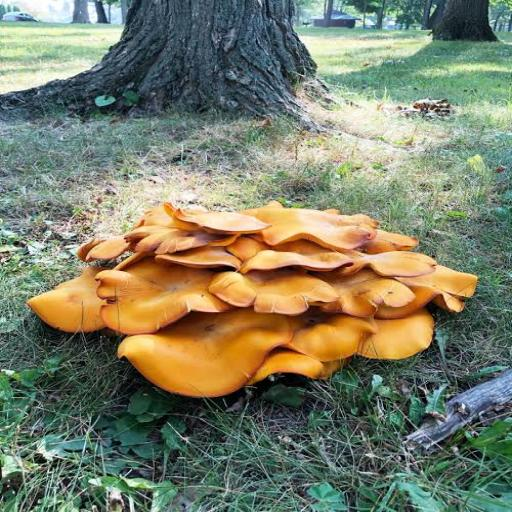Jack O Lantern Mushroom: (107, 299, 291, 395), (80, 262, 233, 333), (24, 264, 138, 337), (200, 265, 344, 319), (247, 198, 376, 255), (315, 264, 422, 326), (354, 301, 457, 365), (282, 308, 378, 367), (386, 254, 490, 308), (118, 205, 229, 255), (229, 233, 350, 275), (164, 196, 270, 236), (247, 345, 335, 387), (341, 248, 437, 279), (69, 231, 144, 266)
